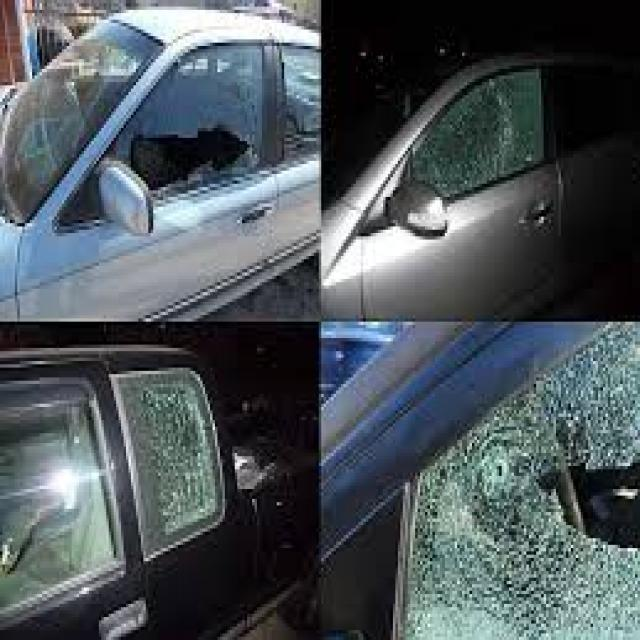damaged-window: (403, 318, 640, 640), (119, 33, 271, 204), (112, 364, 226, 559), (402, 64, 550, 209)
